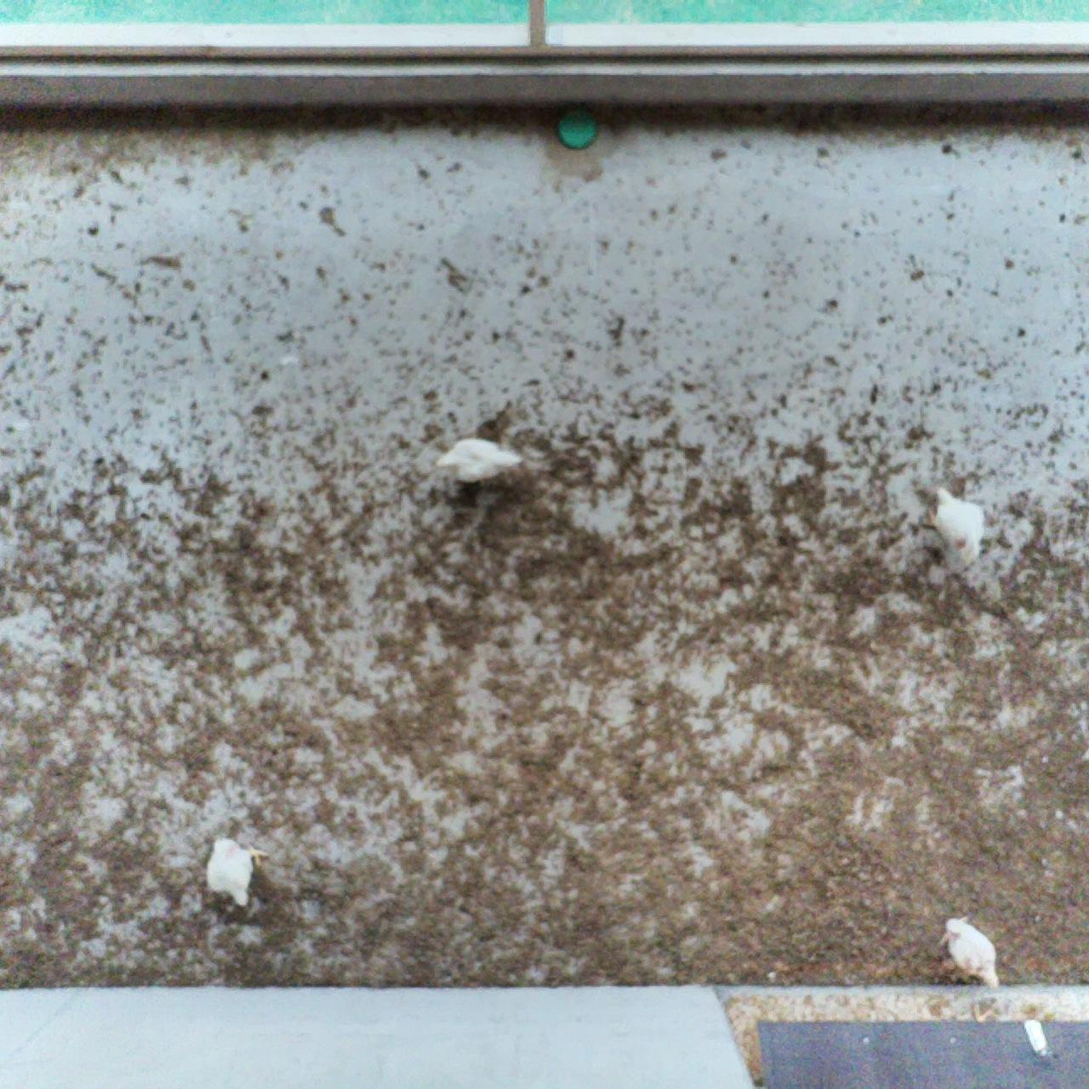chicken: (934, 912, 1006, 994), (201, 831, 267, 913), (431, 432, 524, 487)
